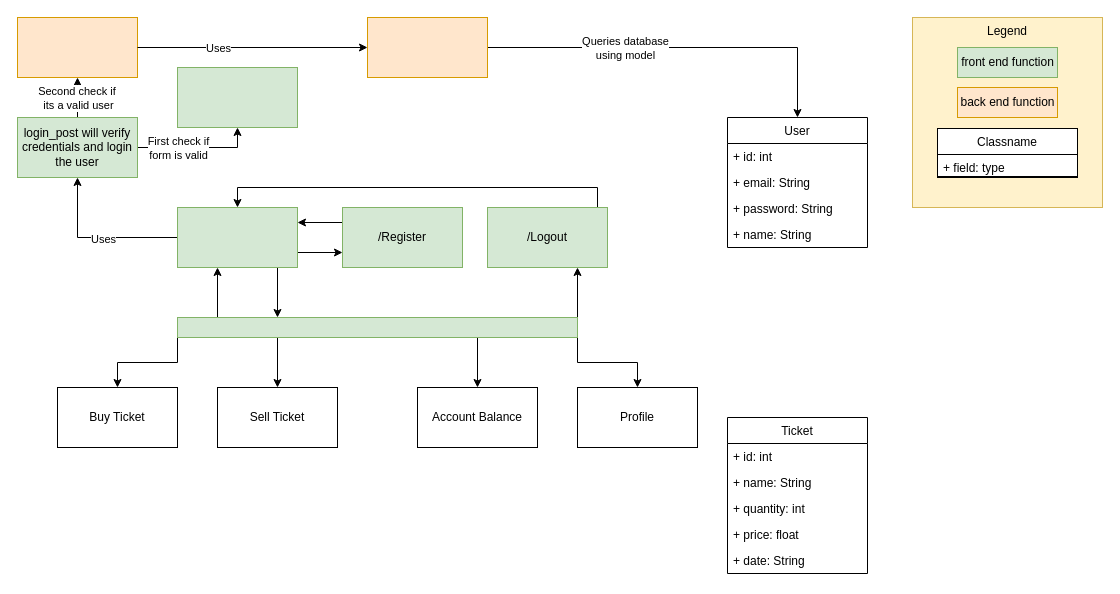
Image size: 1120x594. Some labels were removed from this diagram. Each missing label, with the centre of its shape:
/Login: the point at 237,237
check_login_form will check if the email/password form for login is valid: the point at 237,97
get_user will return a user object from a username: the point at 427,47
login_user checks if a user exists in the database: the point at 77,47
User Home Page: the point at 377,327
